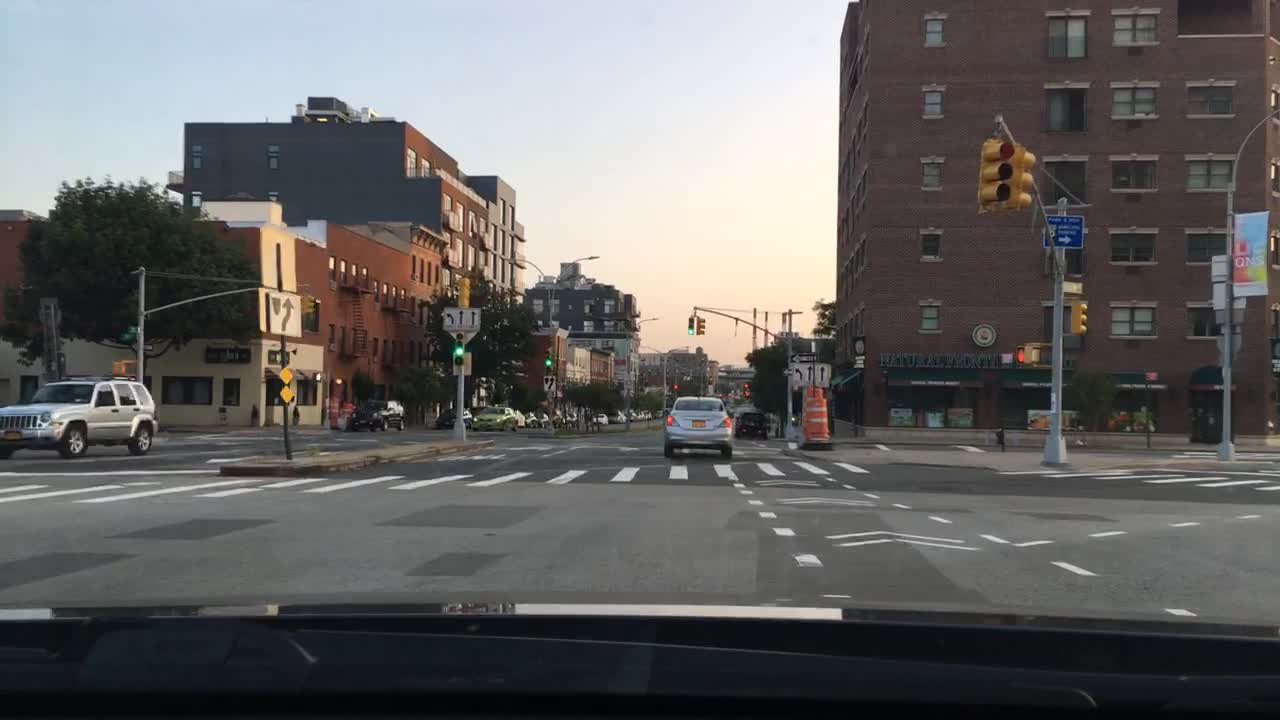car: (0, 374, 158, 455), (665, 395, 732, 462), (346, 398, 408, 434), (469, 401, 518, 434), (732, 408, 768, 442), (435, 405, 472, 430), (508, 408, 526, 430), (550, 408, 572, 425), (523, 408, 541, 428), (535, 408, 553, 427), (604, 408, 626, 422), (590, 408, 607, 425), (563, 407, 582, 422), (624, 408, 639, 422), (639, 407, 653, 418)
traffic light: (982, 131, 1014, 211), (1004, 145, 1034, 212), (1066, 297, 1088, 336), (455, 277, 471, 305), (1022, 344, 1043, 361), (541, 346, 555, 368), (1012, 342, 1026, 363), (452, 332, 462, 361), (302, 292, 315, 314), (109, 359, 128, 374), (693, 314, 705, 336), (685, 314, 695, 336), (741, 381, 749, 398), (668, 380, 678, 393)
traffic sign: (266, 290, 300, 336), (1211, 280, 1245, 320), (1044, 212, 1083, 246), (789, 361, 830, 388), (442, 304, 481, 332), (1211, 326, 1241, 354), (37, 293, 62, 324), (452, 349, 474, 376), (45, 353, 69, 376), (42, 326, 62, 353), (1210, 253, 1230, 280), (1059, 280, 1083, 293), (541, 374, 557, 393), (131, 341, 153, 353), (789, 353, 813, 363), (1144, 368, 1157, 381), (125, 322, 138, 334), (118, 334, 133, 344)
